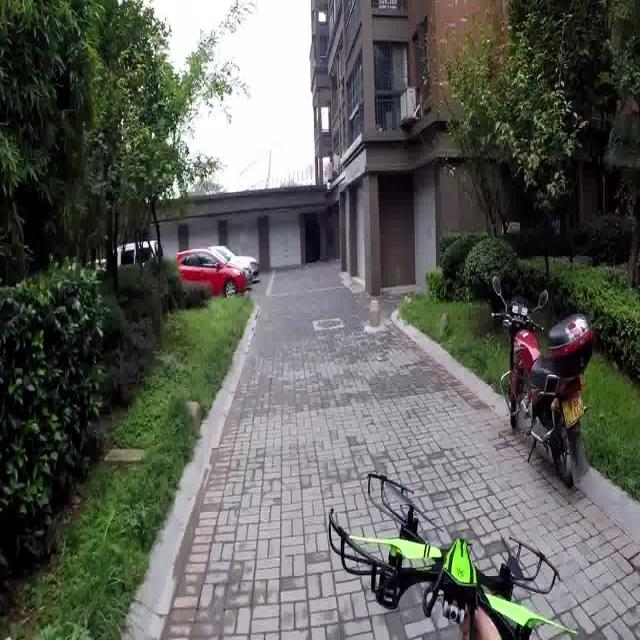drones: (322, 469, 581, 640)
